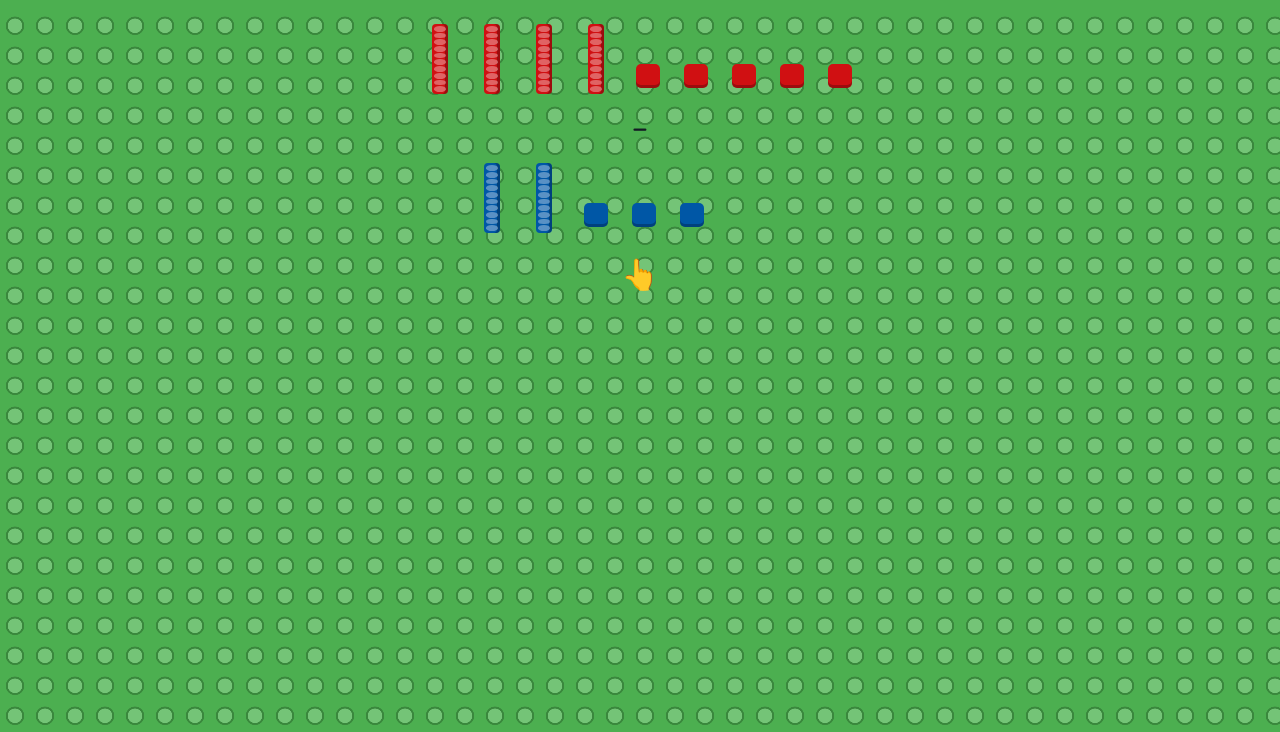
BrickModel tap to count › base-ten take-away counts each number on its own
Step 1. Click the 1st button named "Count this ten" → (440, 59), box [418,20,462,98]
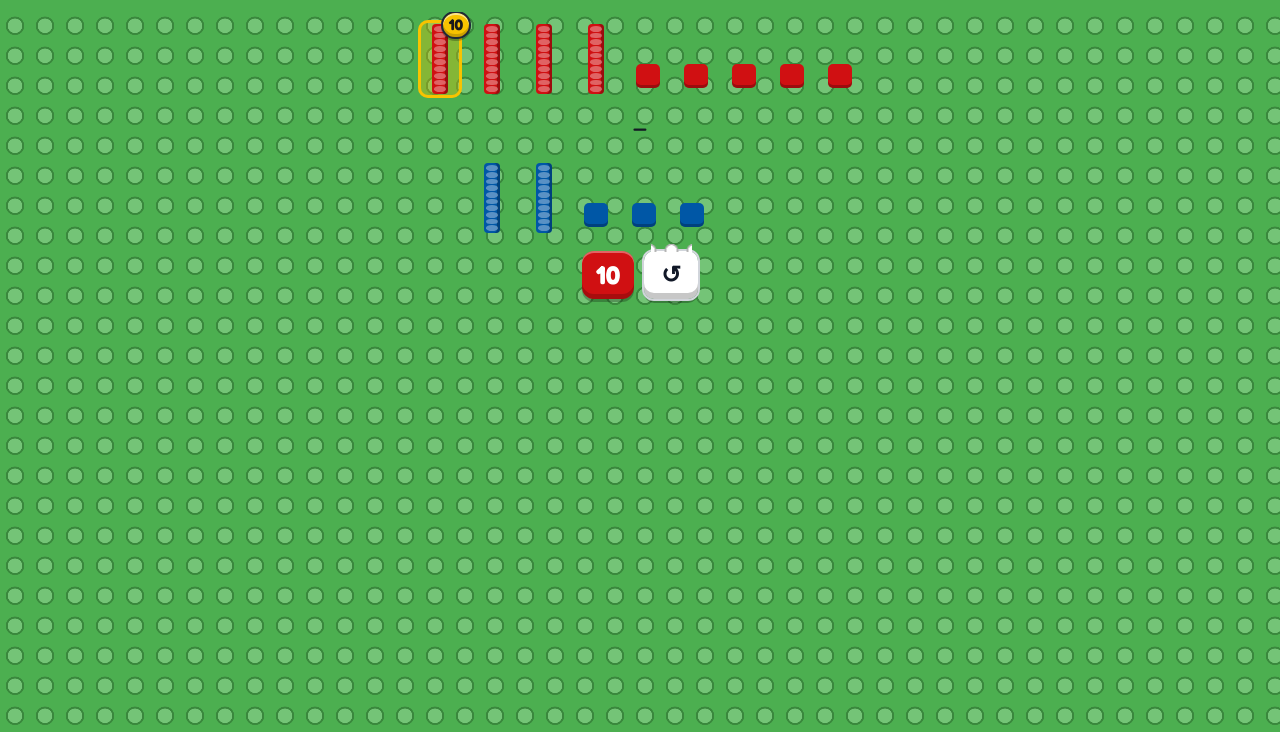
Step 2. Click the 4th button named "Count this ten" → (492, 198), box [470,159,514,237]
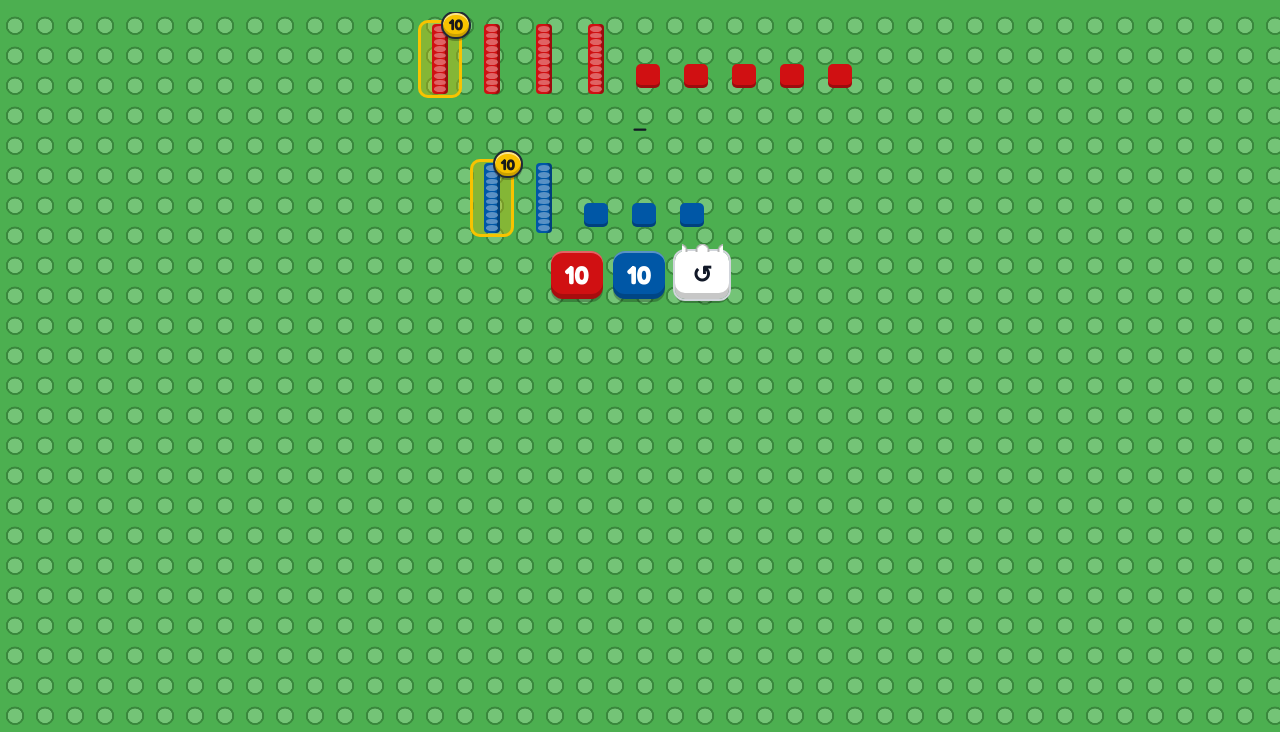
Now the number of elements with class "count-total" is 2, box [551,251,603,299]; [613,251,665,299]
